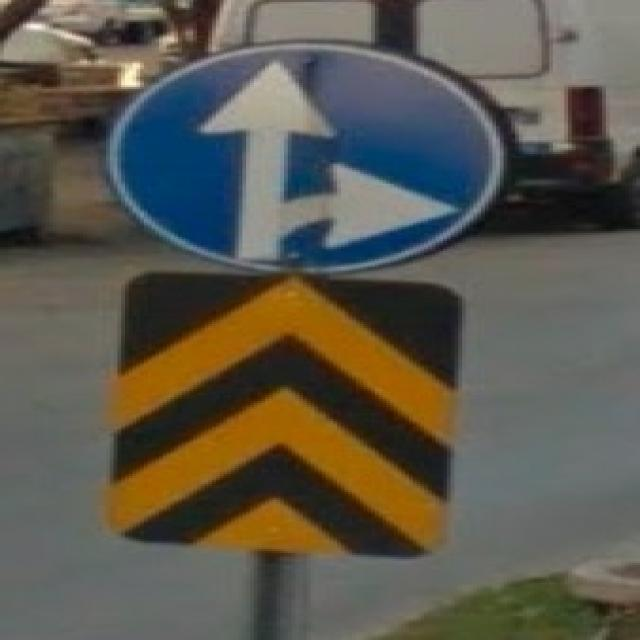Straight or Right: (115, 44, 497, 269)
